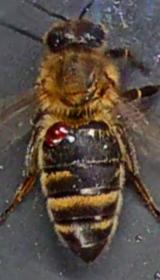varroa_mite: (47, 117, 75, 145)
